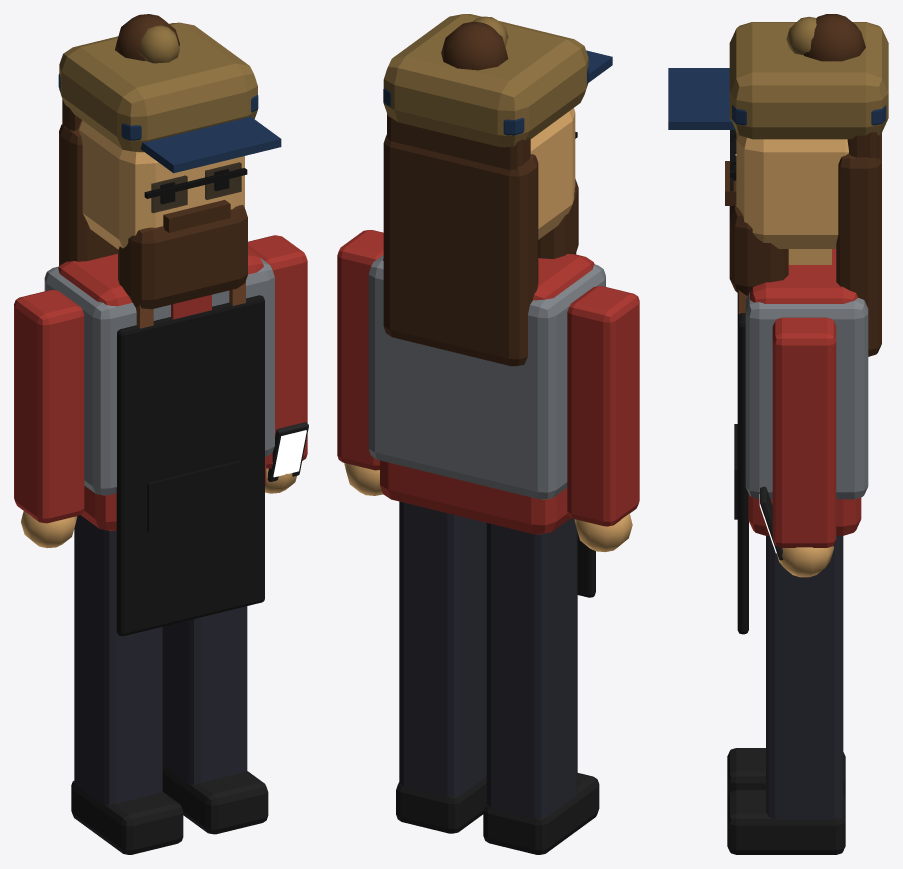
The model's file is person.glb.
3 renders of one model, left to right at view 1: azimuth 30°, elevation 25°; view 2: azimuth 150°, elevation 25°; view 3: azimuth 270°, elevation 25°, orthographic. The views are drawn at different scales.
Visible parts, largest first — view 1: apron, legL, beanie, armL, legR, vest, head, beard, armR, shoeL, apron_pocket, shoeR (+13 smaller); view 2: vest, longhair, legL, legR, beanie, armL, torso, armR, shoeL, head, shoeR, hair_back (+5 smaller); view 3: legR, beanie, armR, vest, head, longhair, shoeR, torso, cap_brim, apron, beard, bun (+7 smaller).
Part boxes in pixels (<box>): apron: <box>116,295,264,636</box>; legL: <box>74,515,162,805</box>; beanie: <box>59,22,257,152</box>; armL: <box>14,290,84,523</box>; legR: <box>162,606,247,784</box>; vest: <box>44,258,274,495</box>; head: <box>78,120,244,249</box>; beard: <box>118,205,247,309</box>; armR: <box>248,235,307,468</box>; shoeL: <box>71,781,183,854</box>; apron_pocket: <box>147,460,241,532</box>; shoeR: <box>162,766,268,834</box>; vest: <box>368,255,605,499</box>; longhair: <box>383,134,538,366</box>; legL: <box>486,518,577,818</box>; legR: <box>399,501,486,797</box>; beanie: <box>383,14,588,147</box>; armL: <box>567,286,639,526</box>; torso: <box>380,254,594,534</box>; armR: <box>337,230,383,470</box>; shoeL: <box>483,773,599,854</box>; head: <box>530,108,575,239</box>; shoeR: <box>396,776,486,833</box>; hair_back: <box>387,114,530,170</box>; legR: <box>766,536,843,819</box>; beanie: <box>729,22,888,139</box>; armR: <box>772,317,836,547</box>; vest: <box>745,292,868,499</box>; head: <box>736,133,848,248</box>; longhair: <box>836,133,881,356</box>; shoeR: <box>727,790,845,854</box>; torso: <box>748,249,861,535</box>; cap_brim: <box>668,68,735,129</box>; apron: <box>737,293,748,634</box>; beard: <box>729,203,788,295</box>; bun: <box>804,14,865,61</box>.
Bounding box in the file's own units: 0.7036 × 1.95 × 0.485.
